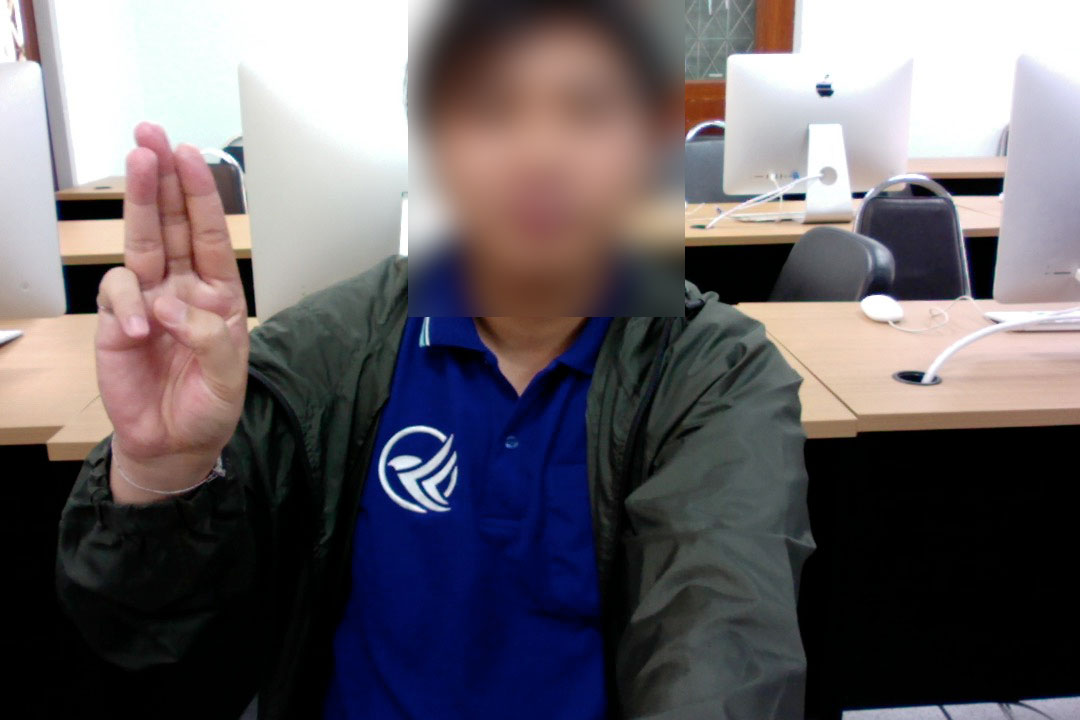wor: (78, 113, 264, 482)
